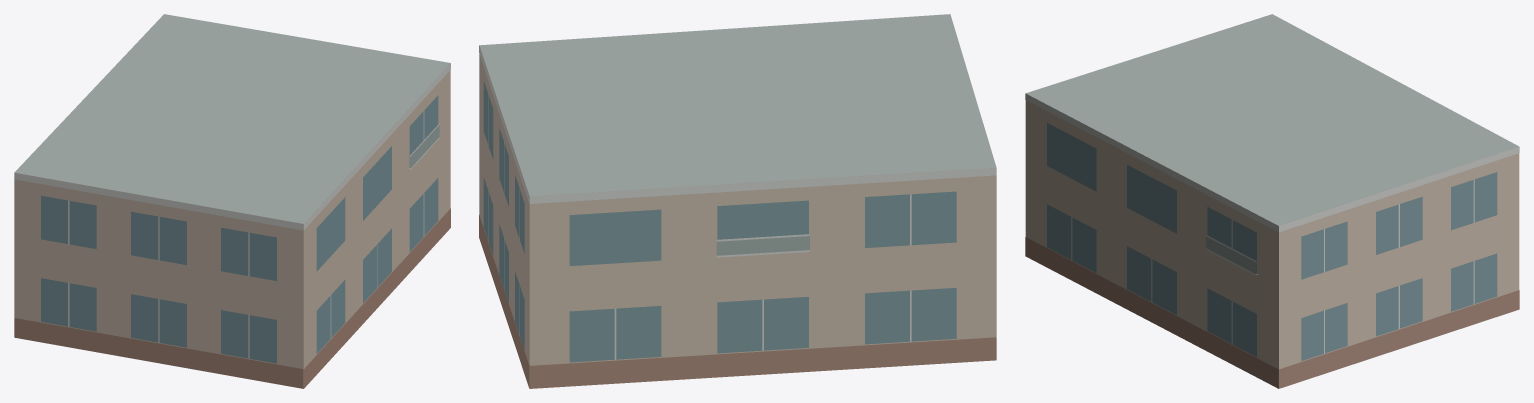
Rendered from survey-upis-33044020.glb.
3 views of the same model, side by side, from view 1: azimuth 30°, elevation 25°; view 2: azimuth 150°, elevation 25°; view 3: azimuth 270°, elevation 25° (orthographic). The views are drawn at different scales.
Parts seen in each view (by area): view 1: survey-upis-33044020.tmp; view 2: survey-upis-33044020.tmp; view 3: survey-upis-33044020.tmp.
Boxes of the visible parts, <box> form: survey-upis-33044020.tmp: <box>14,14,450,388</box>; survey-upis-33044020.tmp: <box>479,14,996,388</box>; survey-upis-33044020.tmp: <box>1025,14,1519,388</box>.
Size of the model in its own units: 17.03 by 6.1 by 16.77.
